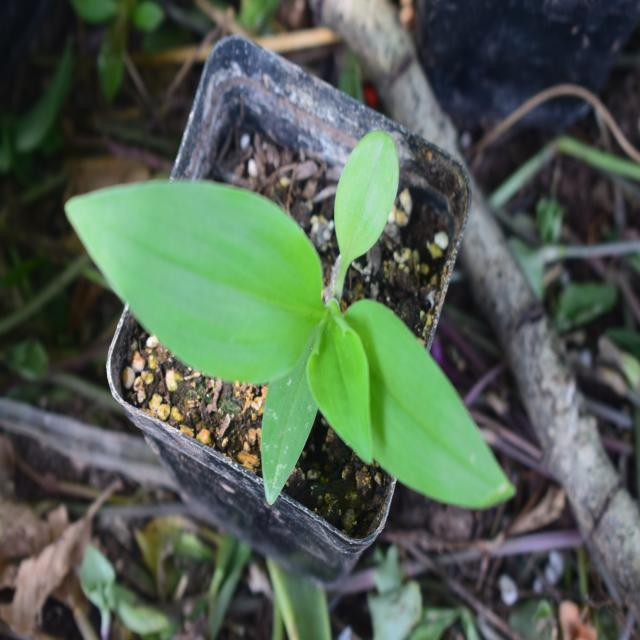Common Dayflower: (91, 142, 513, 526)
